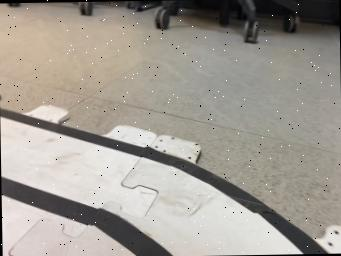street: (0, 110, 330, 256), (0, 110, 330, 256), (0, 110, 330, 256)
